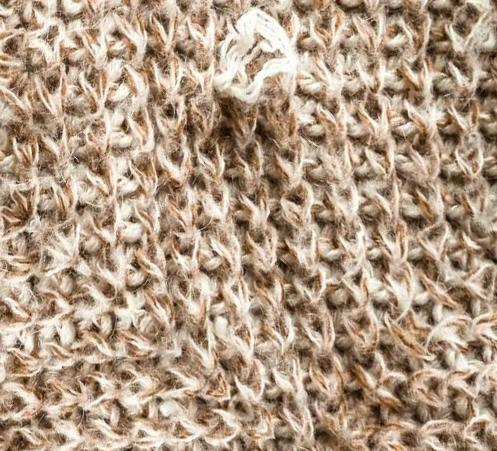snag: (208, 7, 305, 109)
